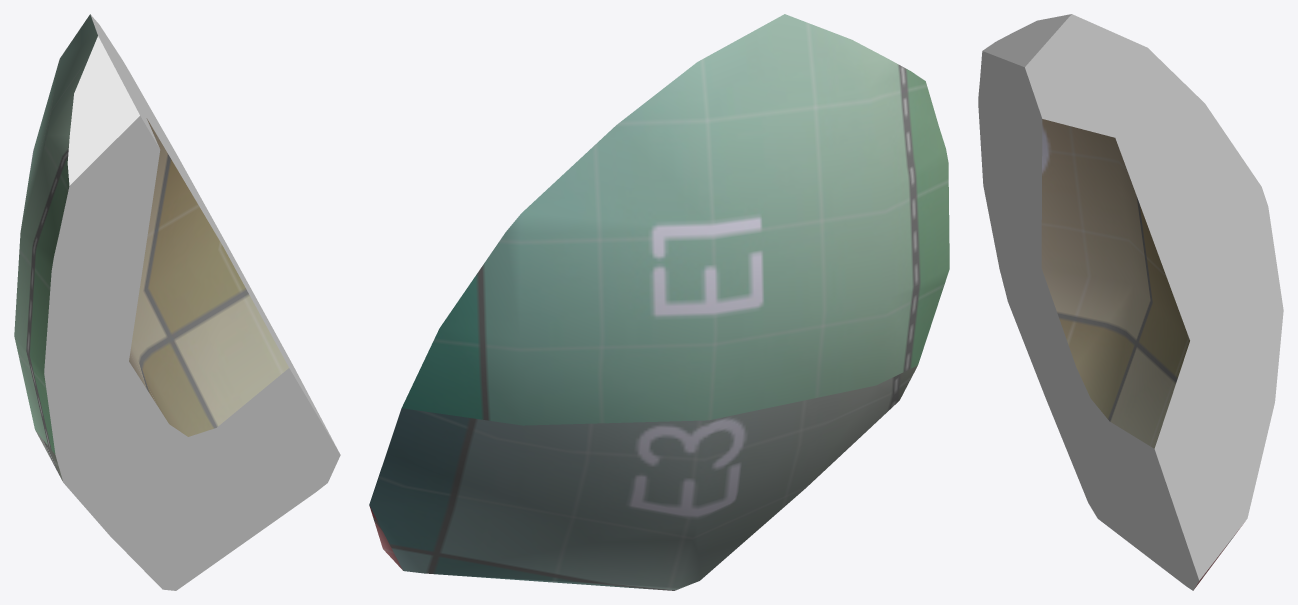
The model's file is RoundVase_SHAT_cell_025.fbx.
3 views of the same model, side by side, from view 1: azimuth 30°, elevation 25°; view 2: azimuth 150°, elevation 25°; view 3: azimuth 270°, elevation 25° (orthographic). The views are drawn at different scales.
Visible parts, largest first — view 1: RoundVase_SHAT_cell_025; view 2: RoundVase_SHAT_cell_025; view 3: RoundVase_SHAT_cell_025.
Part boxes in pixels (x1=…): RoundVase_SHAT_cell_025: x1=14, y1=14, x2=340, y2=590; RoundVase_SHAT_cell_025: x1=369, y1=14, x2=949, y2=590; RoundVase_SHAT_cell_025: x1=978, y1=14, x2=1283, y2=590.
Size of the model in its own units: 0.4919 by 0.6411 by 0.3789.
Materials: 2 (1 with a texture image).
